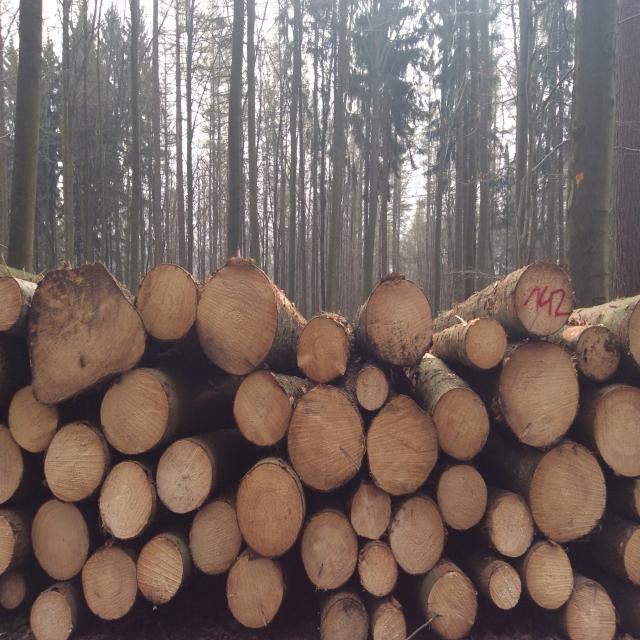wood-log: (30, 264, 146, 406), (196, 259, 278, 376), (497, 340, 578, 444), (285, 386, 364, 492), (530, 441, 607, 544), (362, 398, 437, 498), (238, 463, 306, 559), (365, 278, 436, 364), (102, 368, 172, 455), (44, 422, 112, 501), (136, 263, 200, 339), (298, 512, 358, 593), (29, 502, 87, 583), (516, 264, 577, 341), (100, 459, 159, 538), (390, 495, 448, 573), (158, 438, 218, 513), (224, 552, 283, 628), (231, 372, 290, 448), (81, 542, 138, 620), (590, 386, 638, 478), (432, 389, 488, 461), (427, 562, 480, 638), (190, 501, 243, 576), (298, 317, 352, 385), (5, 386, 58, 454), (434, 465, 486, 533), (525, 540, 575, 608), (485, 492, 535, 559), (137, 534, 186, 602), (562, 582, 616, 640), (357, 539, 398, 597), (322, 592, 371, 640), (573, 329, 618, 381), (350, 484, 390, 541), (28, 588, 71, 640), (466, 320, 510, 370), (0, 426, 23, 507), (488, 560, 522, 609), (354, 365, 390, 410), (369, 601, 406, 640), (0, 271, 24, 330), (622, 526, 640, 586), (0, 572, 27, 609), (0, 509, 15, 575), (628, 306, 640, 366), (633, 480, 640, 518), (13, 631, 39, 640)
